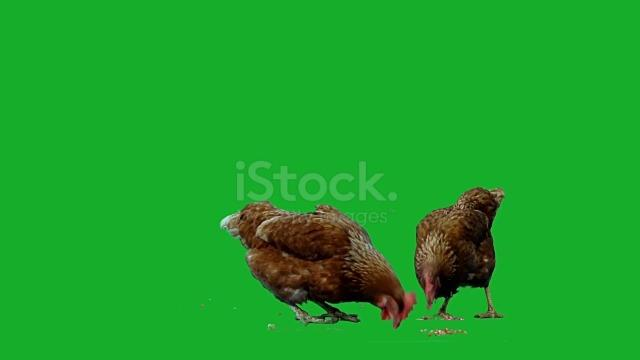Normal: (227, 198, 411, 330)
